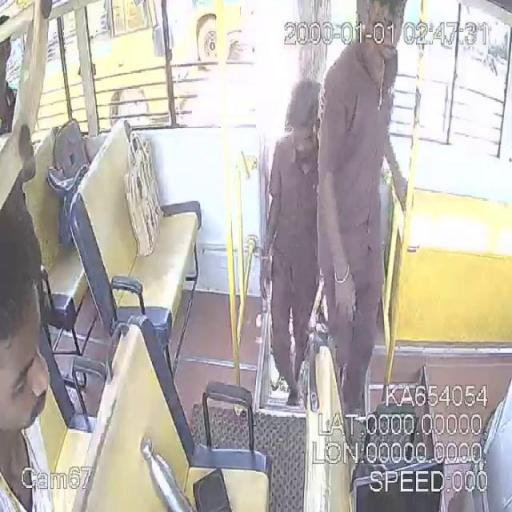persona: (314, 1, 410, 418), (262, 78, 324, 408), (0, 236, 54, 511)
